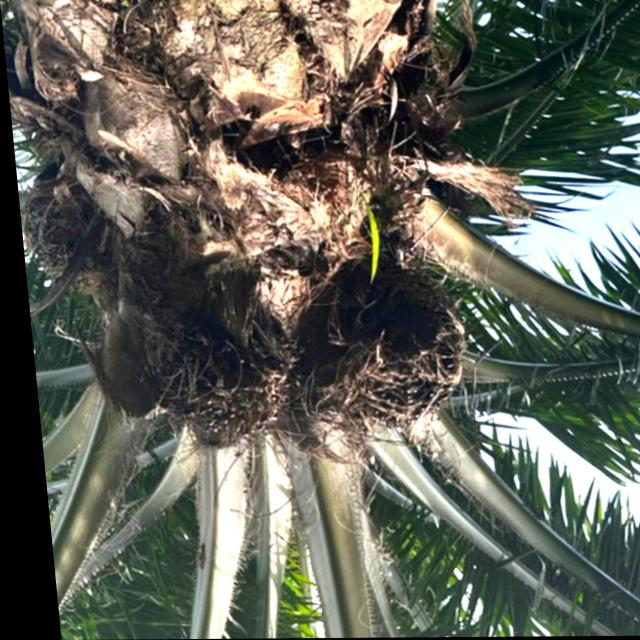unripe: (283, 264, 469, 441), (107, 293, 287, 456)
